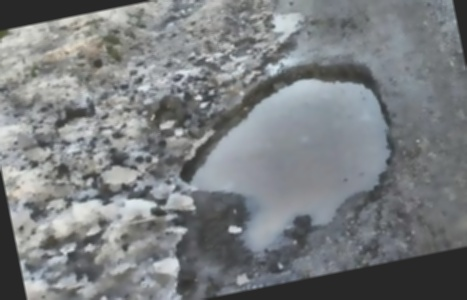pothole: (156, 47, 415, 266), (48, 103, 100, 141), (93, 157, 144, 190)
